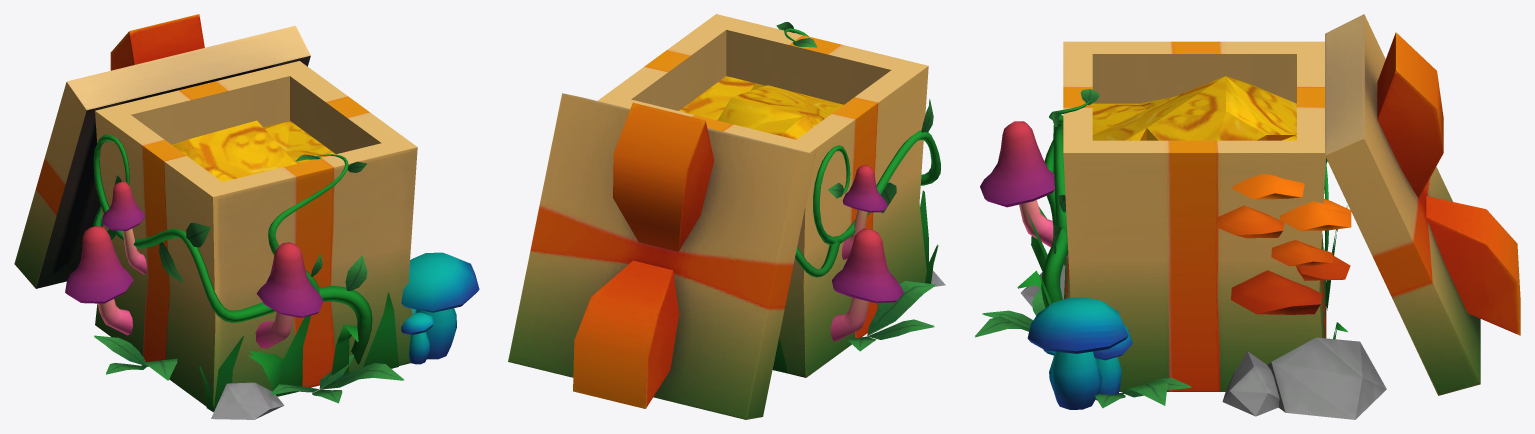
The model's file is Present Mushroom.obj.
3 views of the same model, side by side, from view 1: azimuth 30°, elevation 25°; view 2: azimuth 150°, elevation 25°; view 3: azimuth 270°, elevation 25° (orthographic). The views are drawn at different scales.
Parts seen in each view (by area): view 1: Low1, Mid1; view 2: Low1, Mid1; view 3: Low1, Mid1.
Boxes of the visible parts, x1=… form: Low1: x1=14, y1=14, x2=479, y2=419; Mid1: x1=172, y1=120, x2=335, y2=181; Low1: x1=508, y1=14, x2=945, y2=419; Mid1: x1=679, y1=76, x2=843, y2=139; Low1: x1=975, y1=14, x2=1520, y2=419; Mid1: x1=1092, y1=76, x2=1351, y2=214.
Size of the model in its own units: 7.26 by 5.26 by 9.16.
1 material, 1 textured.
